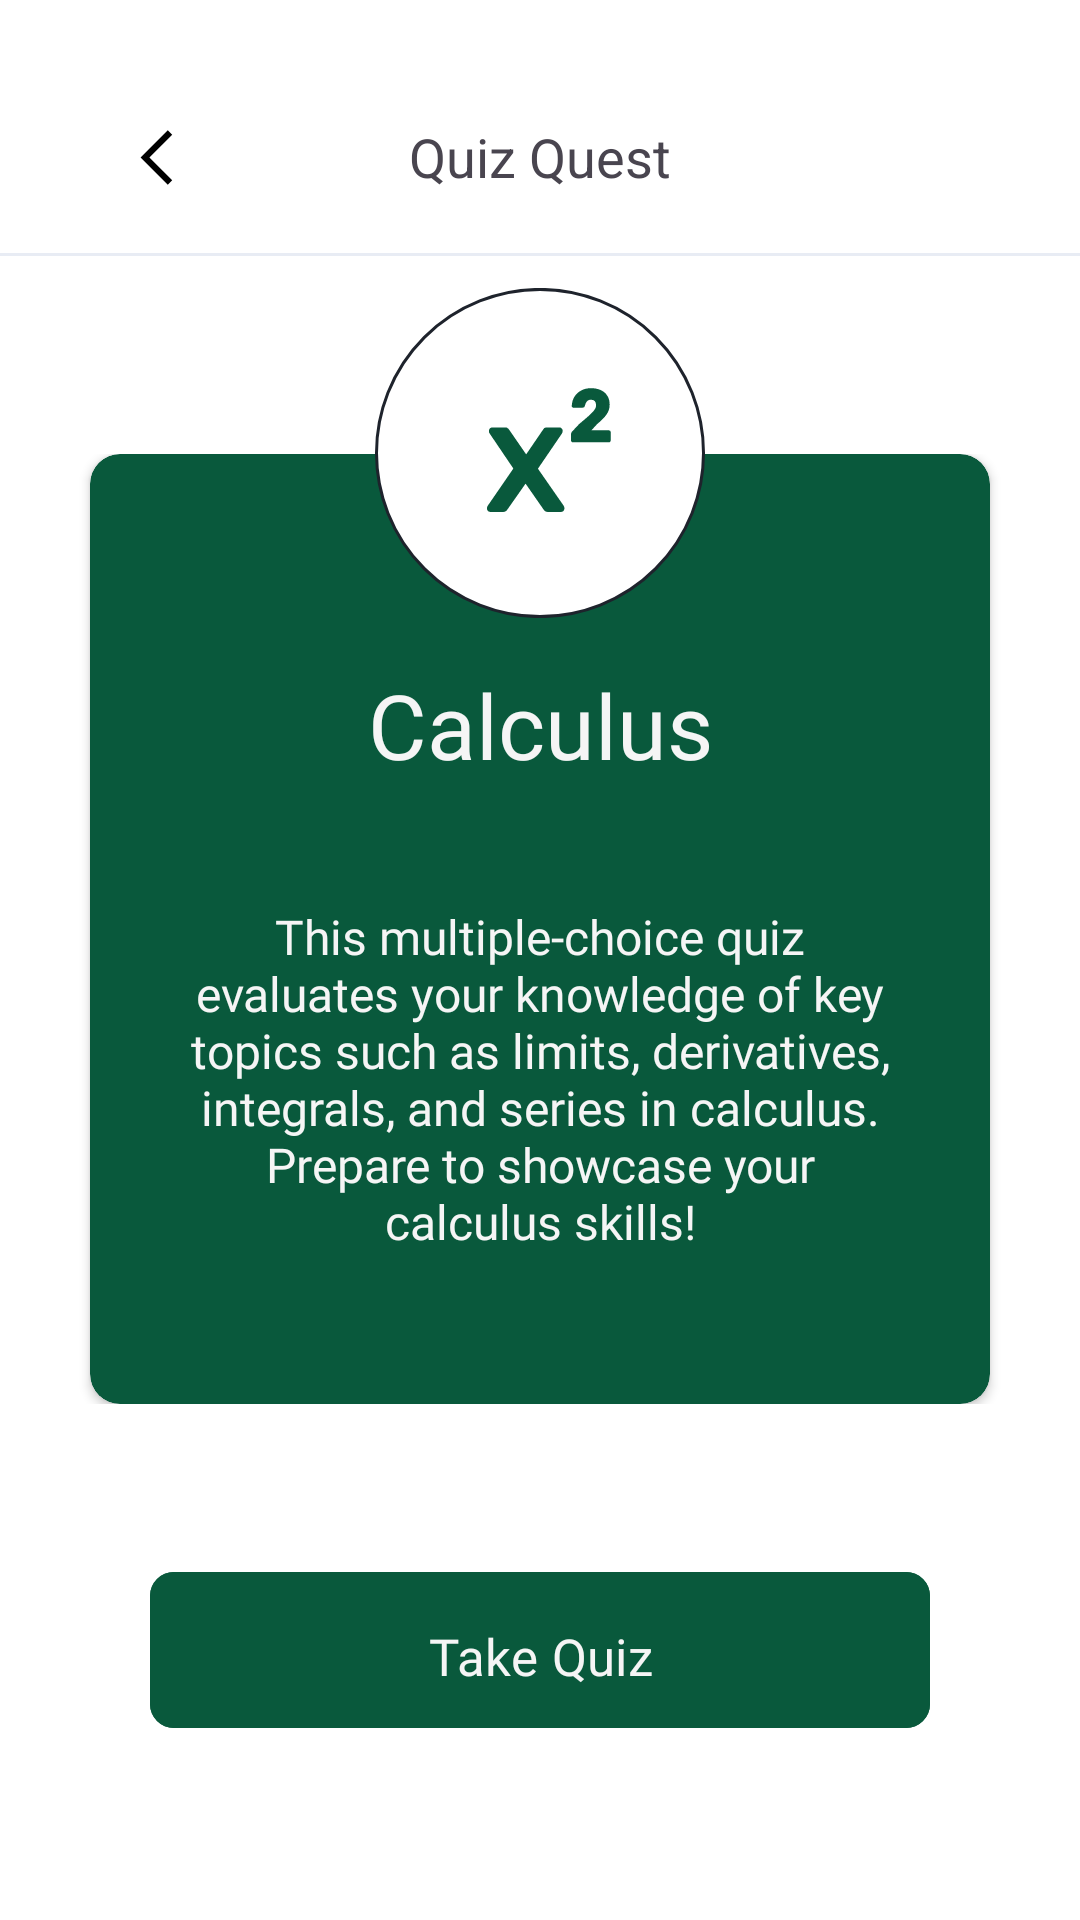

Named icons in this screenshot (1080×1920) and their centers, (x=x, y=y):
back: (x=156, y=157)
